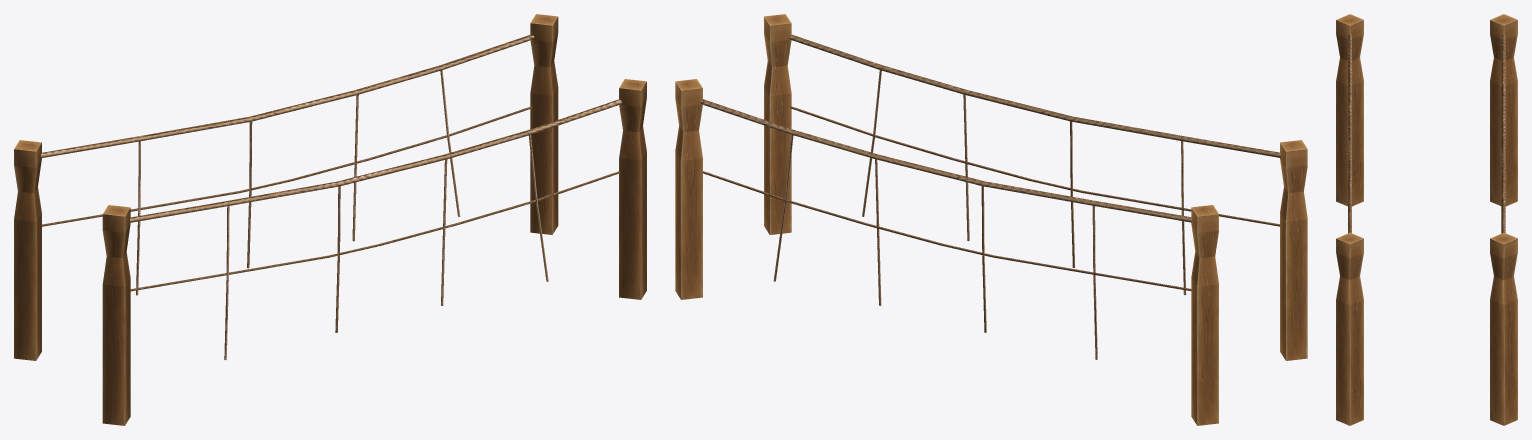
File: C03_JUNGLE_BRIDGE_v05_ponte_cordas.fbx
The picture shows the model from 3 angles, left to right: view 1: azimuth 30°, elevation 25°; view 2: azimuth 150°, elevation 25°; view 3: azimuth 270°, elevation 25°; orthographic projection. The views are drawn at different scales.
Visible parts, largest first — view 1: Cube.038; view 2: Cube.038; view 3: Cube.038.
Part boxes in pixels (x1,y1,x2,y2): Cube.038: (14, 14, 646, 425); Cube.038: (675, 14, 1307, 425); Cube.038: (1336, 14, 1517, 425).
Bounding box in the file's own units: 398 × 146 × 133.
